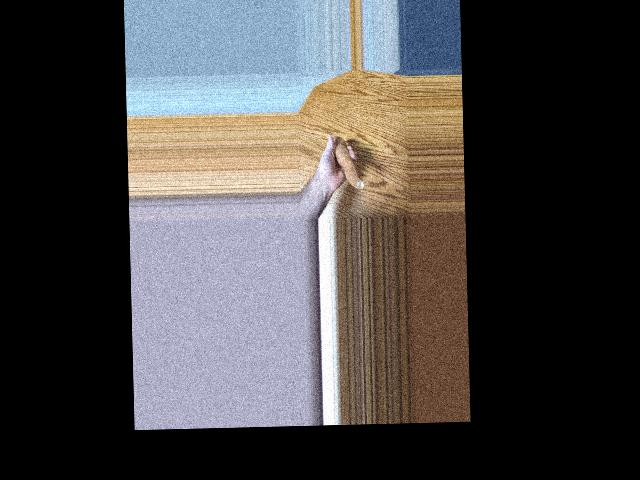sweet_potato: (333, 138, 364, 192)
